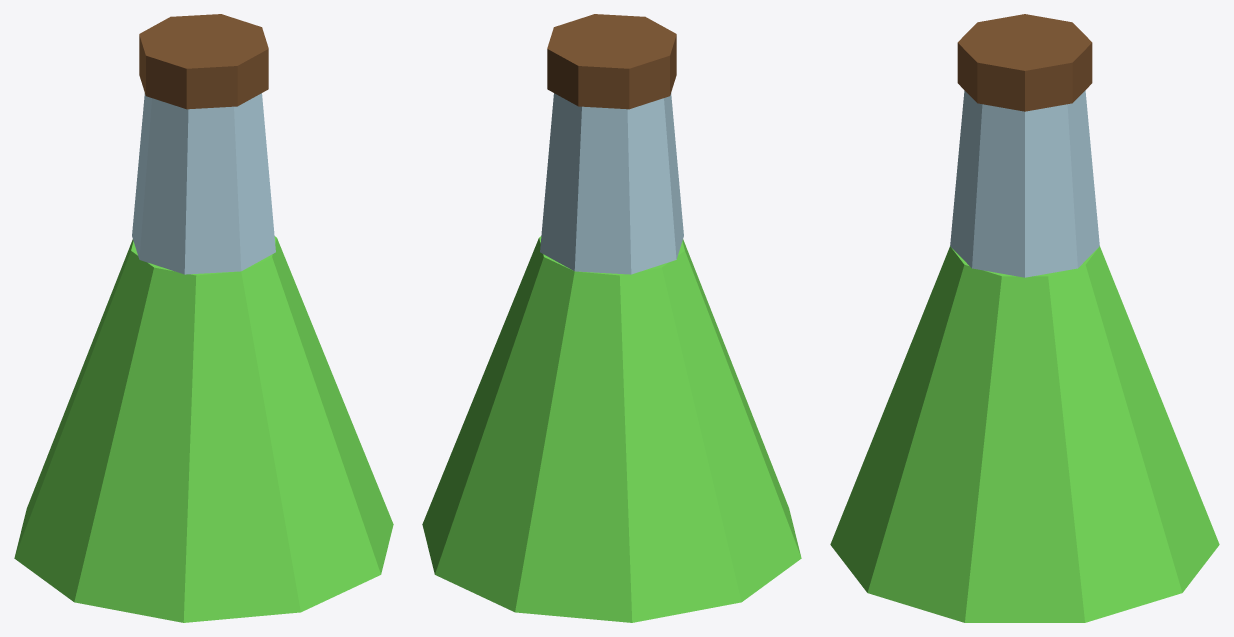
File: p_flask.glb
3 renders of one model, left to right at view 1: azimuth 30°, elevation 25°; view 2: azimuth 150°, elevation 25°; view 3: azimuth 270°, elevation 25°, orthographic.
Parts seen in each view (by area): view 1: flask; view 2: flask; view 3: flask.
Part boxes in pixels (<box>): flask: <box>14,14,393,622</box>; flask: <box>422,14,801,622</box>; flask: <box>830,14,1219,622</box>.
Size of the model in its own units: 0.2473 by 0.37 by 0.26.
